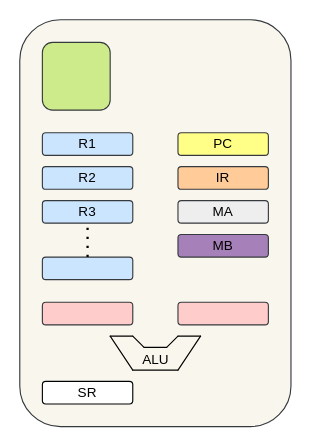
Some shapes in this 311 by 446 pixel diagram are drawn without their labels. The box of each missing label's shape, as (x1, y1, x2, y2) in pixels:
OP1: (41, 301, 133, 325)
OP2: (177, 301, 268, 325)
RN: (41, 256, 133, 280)
Unità di controllo: (41, 41, 110, 110)
